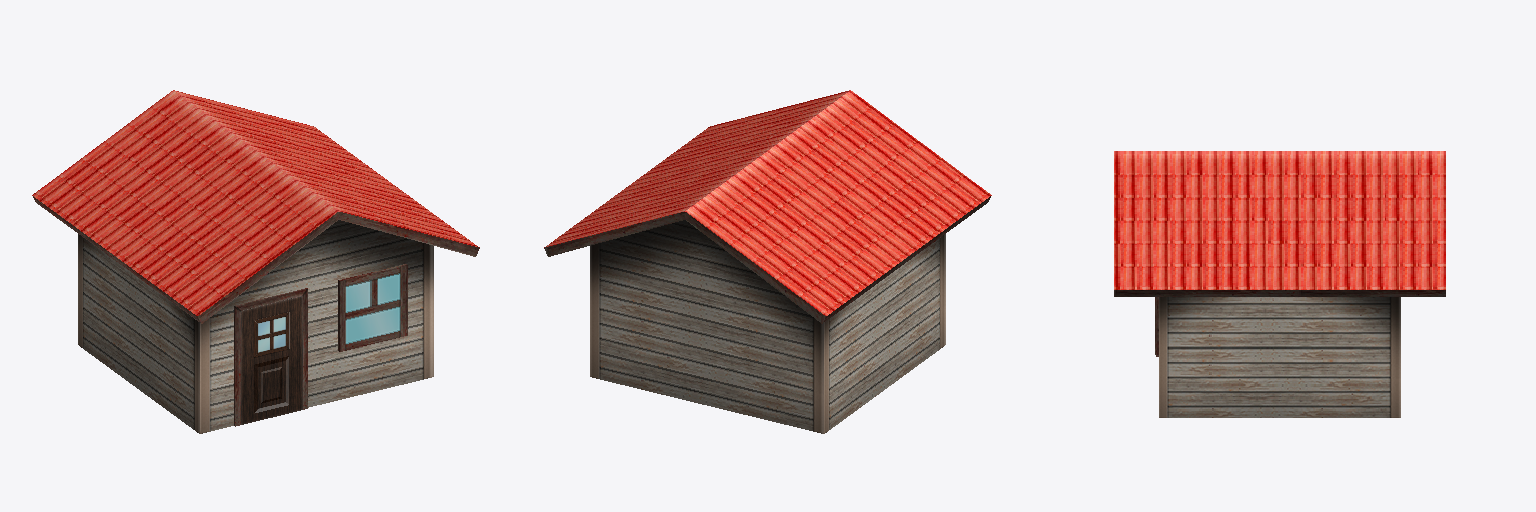
3 views of the same model, side by side, from view 1: azimuth 30°, elevation 25°; view 2: azimuth 150°, elevation 25°; view 3: azimuth 270°, elevation 25° (orthographic).
Parts seen in each view (by area): view 1: house1_geo, door_geo; view 2: house1_geo; view 3: house1_geo.
Part boxes in pixels (x1,y1,x2,y2): house1_geo: (32,90,479,433); door_geo: (241,296,302,424); house1_geo: (544,90,991,433); house1_geo: (1114,151,1445,417).
Bounding box in the file's own units: 0.0627 × 0.0447 × 0.0638.
2 materials, 2 textured.